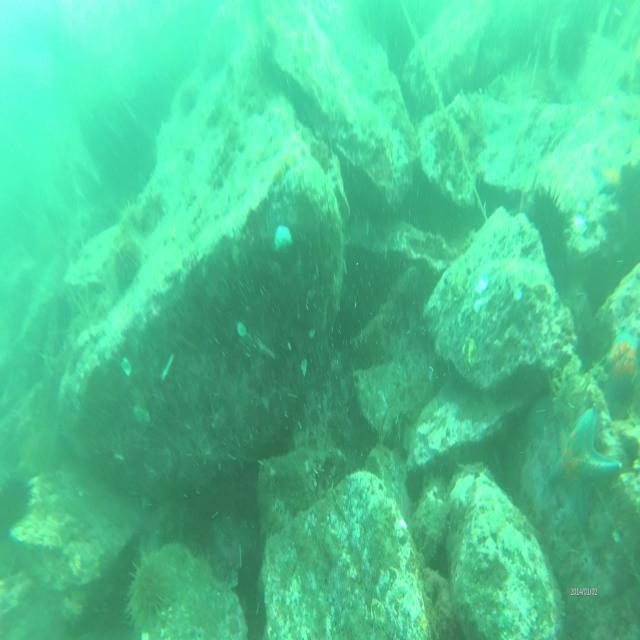echinus: (524, 183, 570, 291), (121, 555, 174, 637), (551, 21, 589, 91), (0, 470, 33, 546)
starfish: (542, 399, 625, 530), (601, 325, 640, 409), (591, 156, 623, 204)
